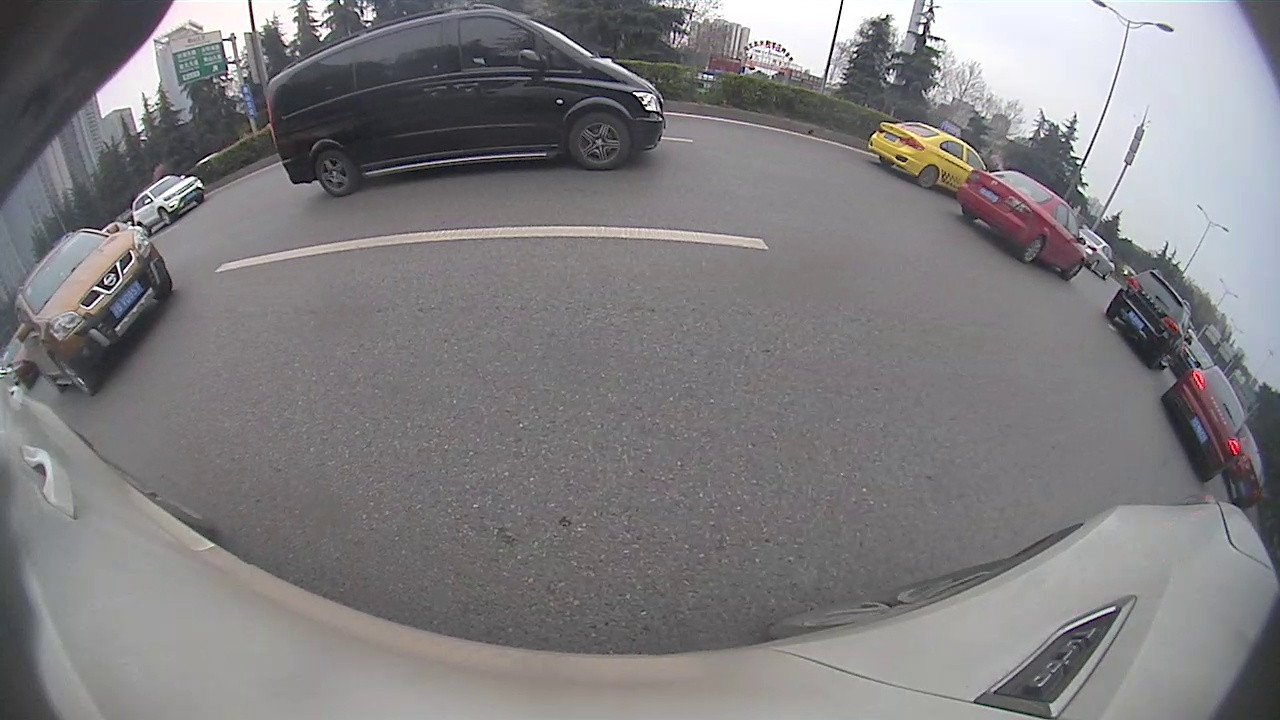car: (264, 3, 666, 197), (15, 224, 173, 397), (956, 164, 1083, 282), (1163, 366, 1245, 483), (864, 116, 987, 193), (1103, 264, 1187, 369), (131, 175, 208, 233), (1087, 227, 1117, 280)
front: (569, 113, 630, 172), (54, 354, 94, 395), (159, 207, 171, 225)
rear: (317, 150, 355, 196), (1022, 236, 1045, 262), (918, 165, 939, 190)
